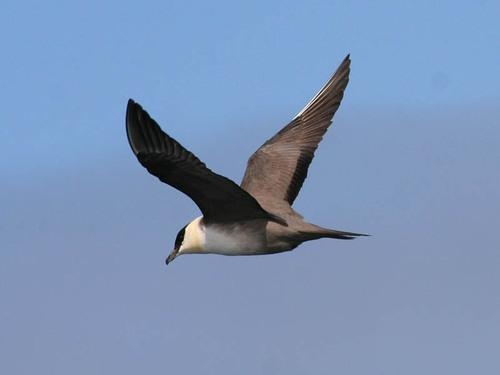bird: (124, 52, 372, 267)
